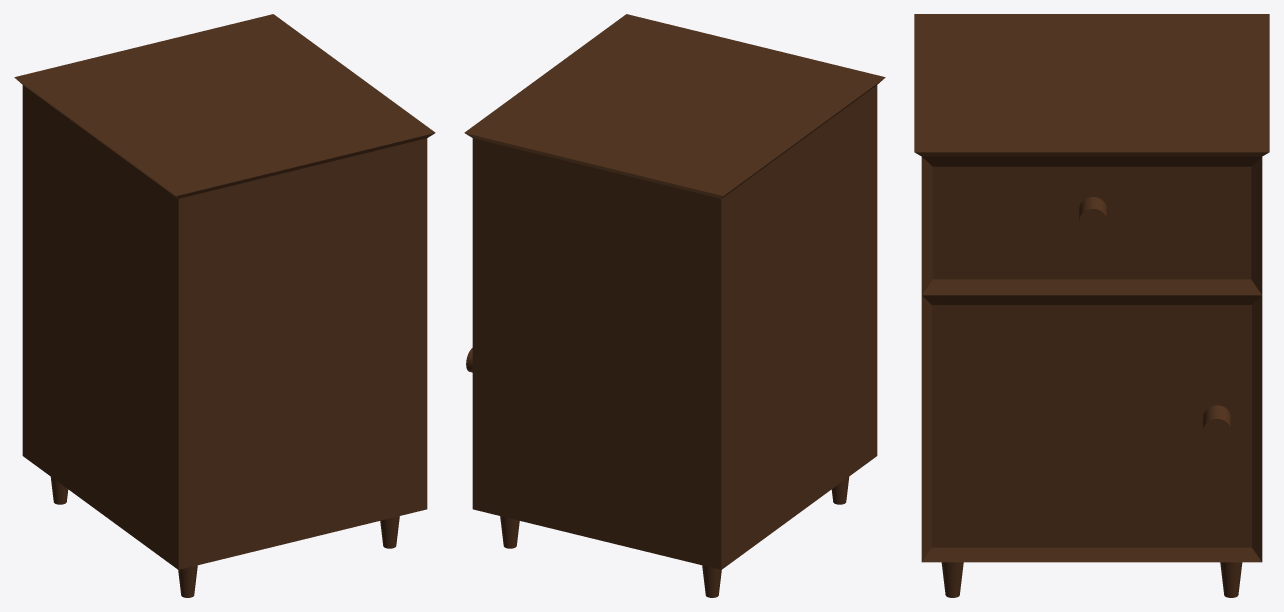
The model's file is Mezamasi_oki.fbx.
The picture shows the model from 3 angles, left to right: view 1: azimuth 30°, elevation 25°; view 2: azimuth 150°, elevation 25°; view 3: azimuth 270°, elevation 25°; orthographic projection. The views are drawn at different scales.
Visible parts, largest first — view 1: 立方体, 円柱; view 2: 立方体, 円柱; view 3: 立方体, 円柱, 円柱.001, 円柱.002.
Part boxes in pixels (x1,y1,x2,y2): 立方体: [14, 14, 435, 569]; 円柱: [50, 477, 399, 597]; 立方体: [464, 14, 885, 569]; 円柱: [500, 477, 849, 597]; 立方体: [914, 14, 1269, 562]; 円柱: [941, 562, 1242, 597]; 円柱.001: [1203, 405, 1231, 444]; 円柱.002: [1079, 197, 1107, 234].
Bounding box in the file's own units: 77.51 × 113 × 79.32.
